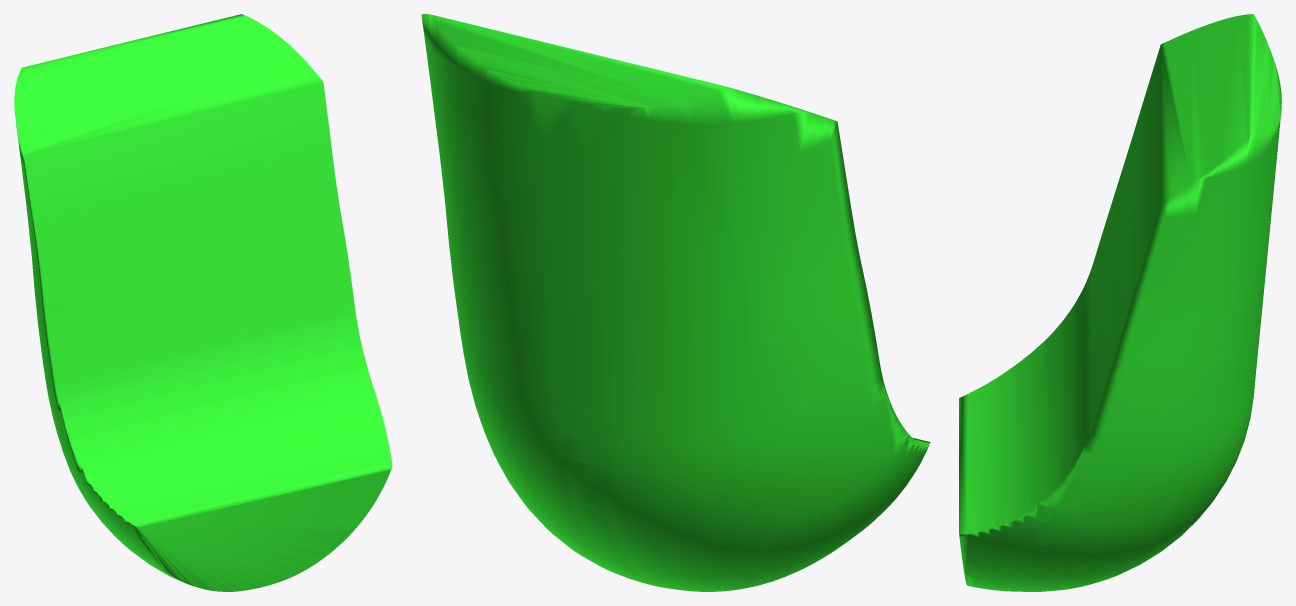
File: left_elastomer_HB1_4F_33ff33.glb
3 views of the same model, side by side, from view 1: azimuth 30°, elevation 25°; view 2: azimuth 150°, elevation 25°; view 3: azimuth 270°, elevation 25° (orthographic). The views are drawn at different scales.
Visible parts, largest first — view 1: elastomer_HB1_4F_0; view 2: elastomer_HB1_4F_0; view 3: elastomer_HB1_4F_0.
Boxes of the visible parts, x1,y1,x2,y2 form: elastomer_HB1_4F_0: [14, 14, 392, 591]; elastomer_HB1_4F_0: [421, 14, 930, 591]; elastomer_HB1_4F_0: [959, 14, 1281, 591].
Bounding box in the file's own units: 0.0137 × 0.0199 × 0.0116.
